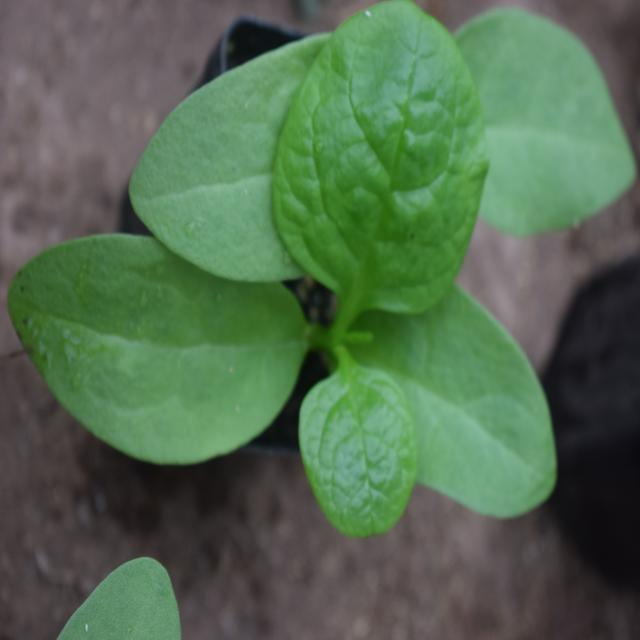Ceylon spinach: (0, 23, 554, 529)
